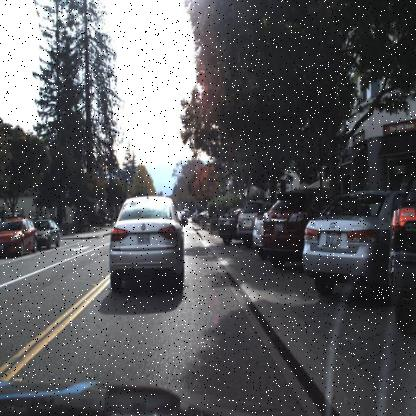car: (302, 191, 388, 298), (108, 192, 186, 295), (388, 159, 415, 336), (261, 192, 302, 270), (0, 216, 36, 252), (36, 219, 59, 250), (218, 211, 236, 248), (237, 205, 252, 249)
